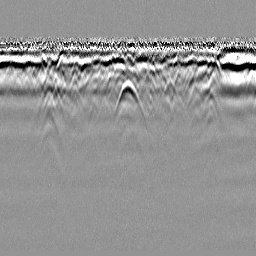cavity: (112, 78, 148, 131)
